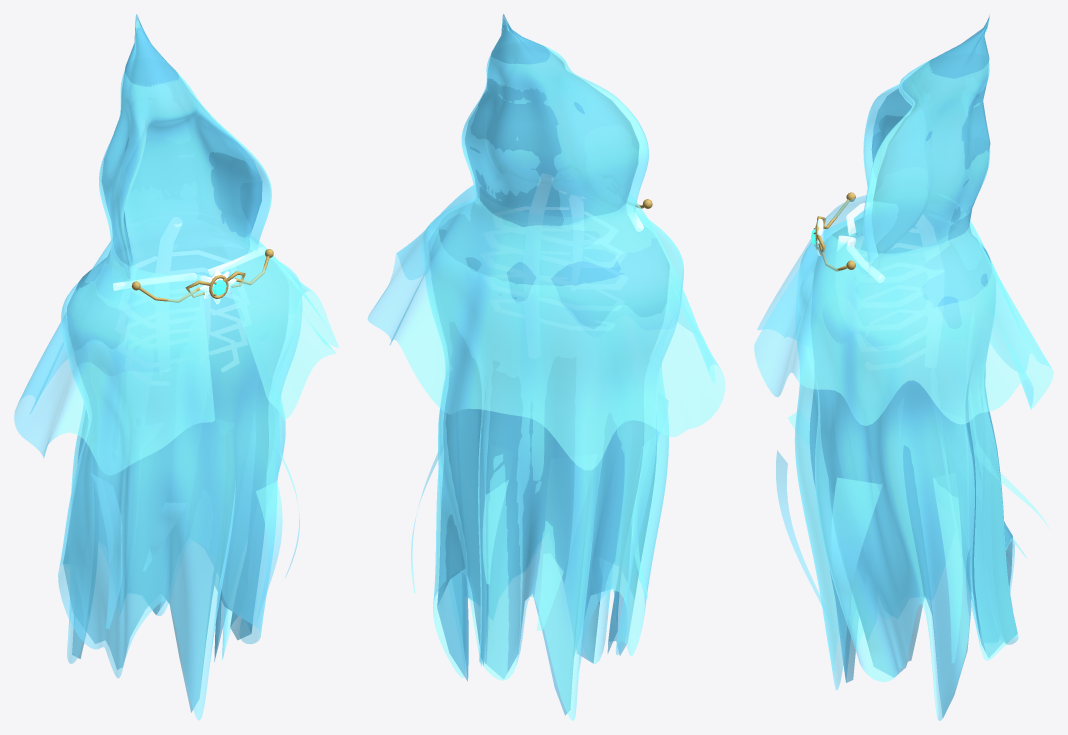
Rendered from ghost_shroud.glb.
3 renders of one model, left to right at view 1: azimuth 30°, elevation 25°; view 2: azimuth 150°, elevation 25°; view 3: azimuth 270°, elevation 25°, orthographic. The views are drawn at different scales.
Parts seen in each view (by area): view 1: ShroudOuter_Cloak, ShroudInner_Lining, ShroudOuter_Mantle, ShroudOuter_HemRibbon_3, ShroudOuter_HemRibbon_1, ShroudOuter_HemRibbon_2, ShroudInner_Spine, ShroudInner_Clavicle_L; view 2: ShroudOuter_Cloak, ShroudInner_Lining, ShroudOuter_Mantle, ShroudOuter_HemRibbon_5, ShroudOuter_HemRibbon_4; view 3: ShroudOuter_Cloak, ShroudInner_Lining, ShroudOuter_Mantle, ShroudOuter_HemRibbon_0, ShroudOuter_HemRibbon_6, ShroudOuter_HemRibbon_1.
Boxes of the visible parts, x1,y1,x2,y2 form: ShroudOuter_Cloak: [58, 17, 302, 720]; ShroudInner_Lining: [63, 14, 288, 712]; ShroudOuter_Mantle: [14, 235, 338, 475]; ShroudOuter_HemRibbon_3: [91, 473, 122, 628]; ShroudOuter_HemRibbon_1: [256, 481, 282, 620]; ShroudOuter_HemRibbon_2: [143, 502, 186, 570]; ShroudInner_Spine: [156, 217, 181, 273]; ShroudInner_Clavicle_L: [113, 273, 196, 290]; ShroudOuter_Cloak: [422, 17, 683, 720]; ShroudInner_Lining: [429, 14, 669, 715]; ShroudOuter_Mantle: [367, 185, 725, 470]; ShroudOuter_HemRibbon_5: [482, 479, 508, 584]; ShroudOuter_HemRibbon_4: [537, 553, 563, 630]; ShroudOuter_Cloak: [794, 18, 1018, 720]; ShroudInner_Lining: [810, 15, 1017, 718]; ShroudOuter_Mantle: [754, 195, 1053, 425]; ShroudOuter_HemRibbon_0: [831, 477, 881, 616]; ShroudOuter_HemRibbon_6: [933, 478, 962, 663]; ShroudOuter_HemRibbon_1: [776, 450, 833, 627].
Size of the model in its own units: 0.5506 by 1.18 by 0.469.
